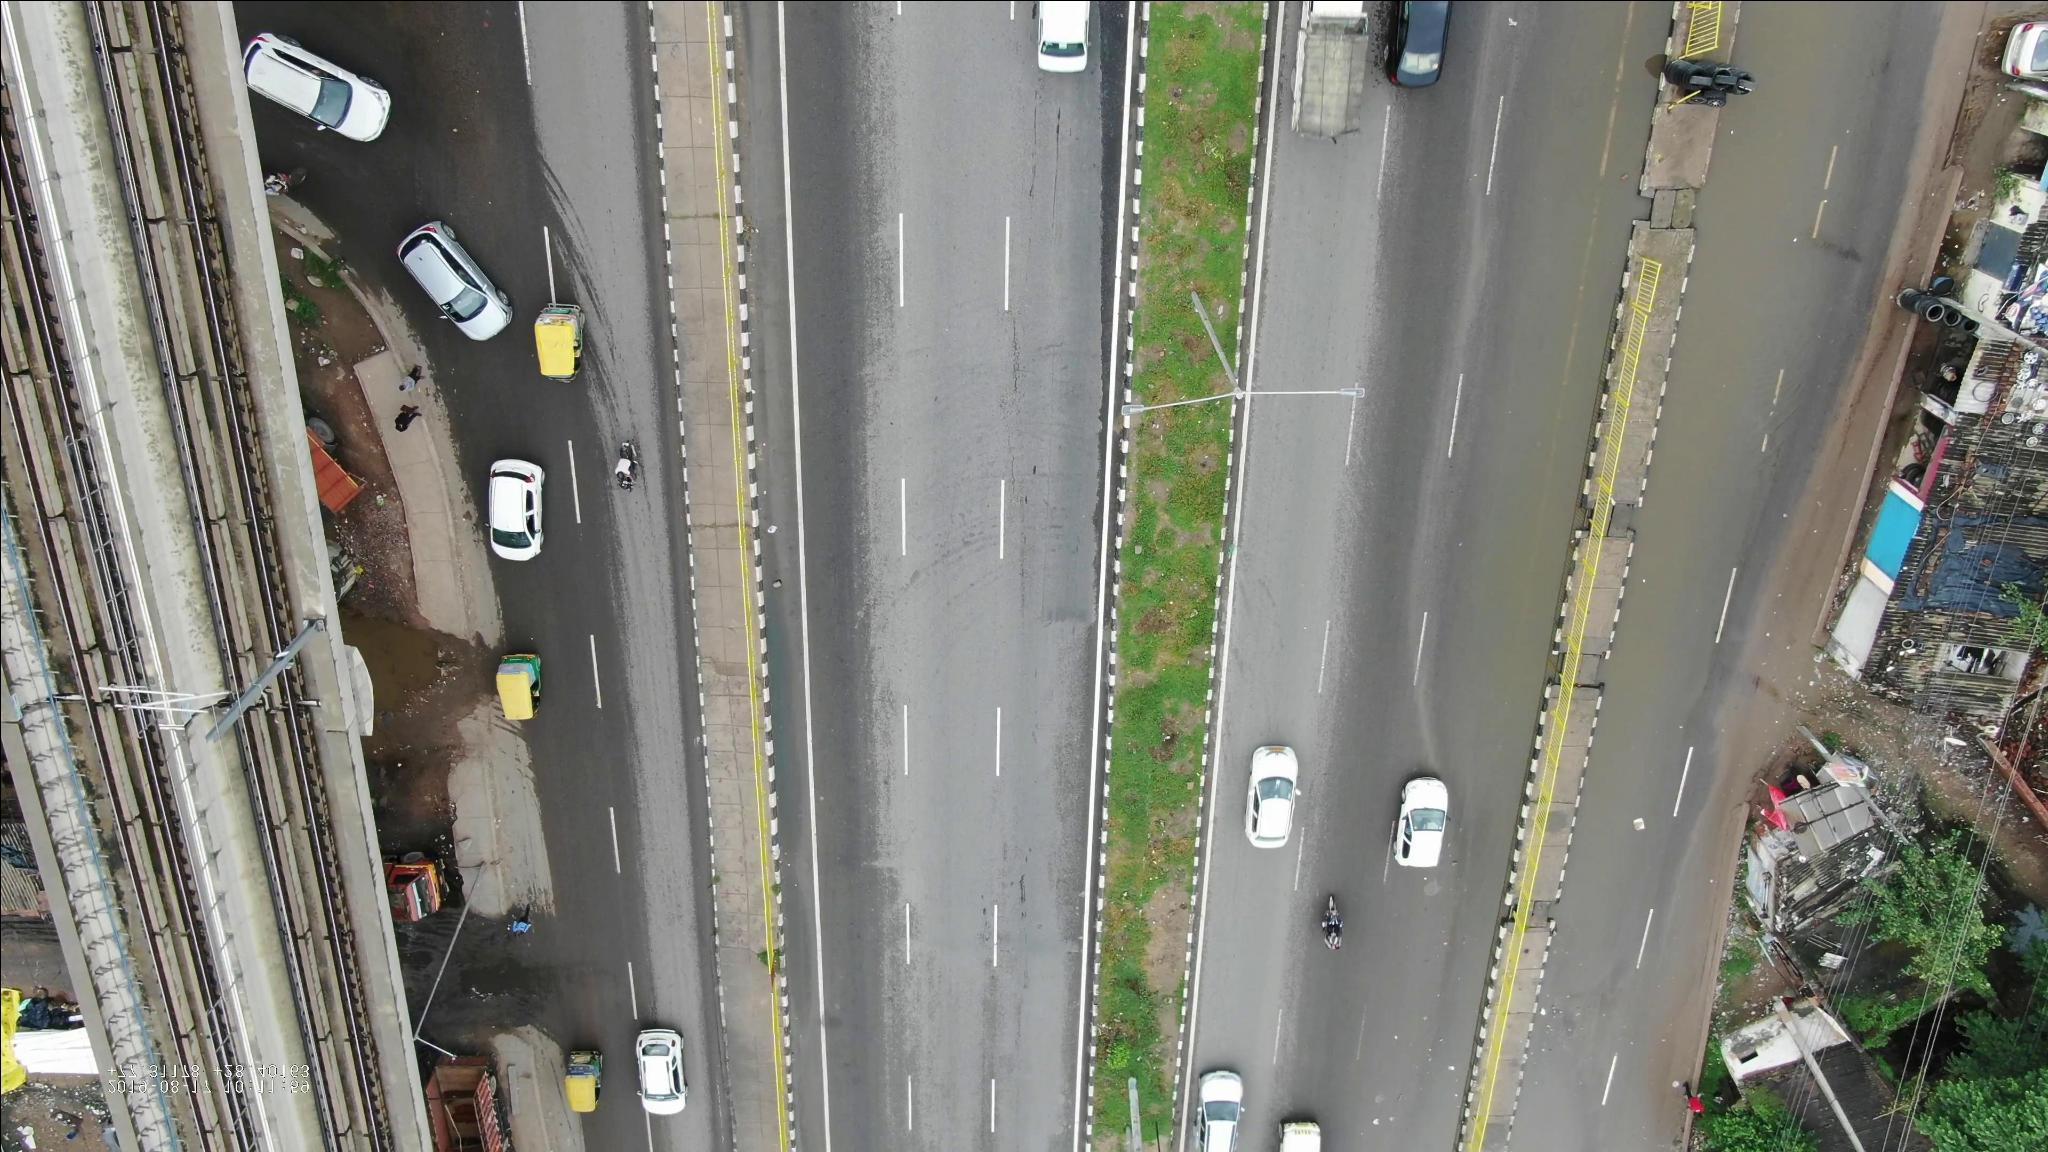Waterlogging: (1556, 515, 1748, 906), (1433, 435, 1611, 755), (1657, 111, 1834, 415), (1501, 89, 1663, 378)
